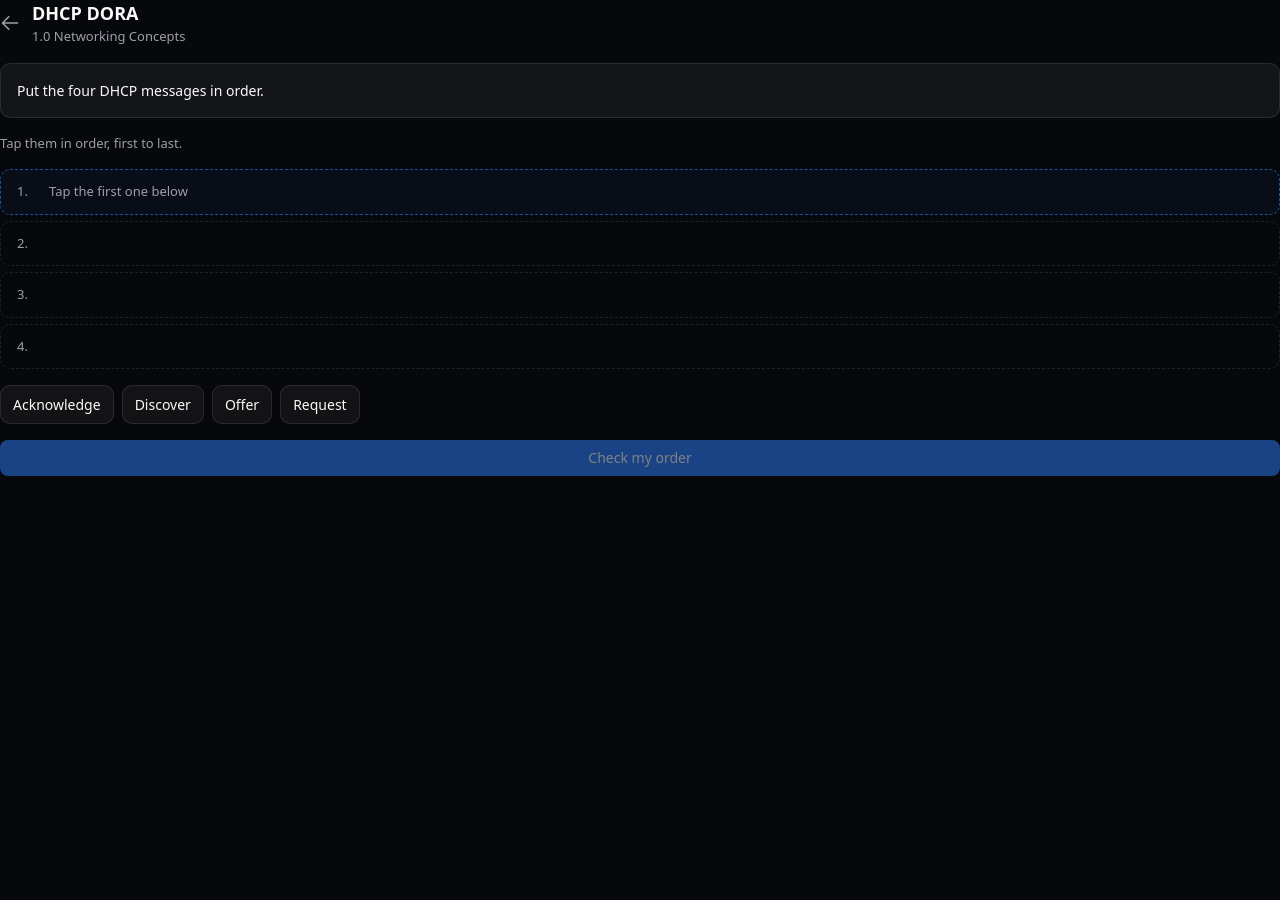
ordering PBQs › asks before leaving once something is placed
This screenshot has width=1280, height=900.
Click the button "Discover" at (163, 404), box [122,385,204,424]
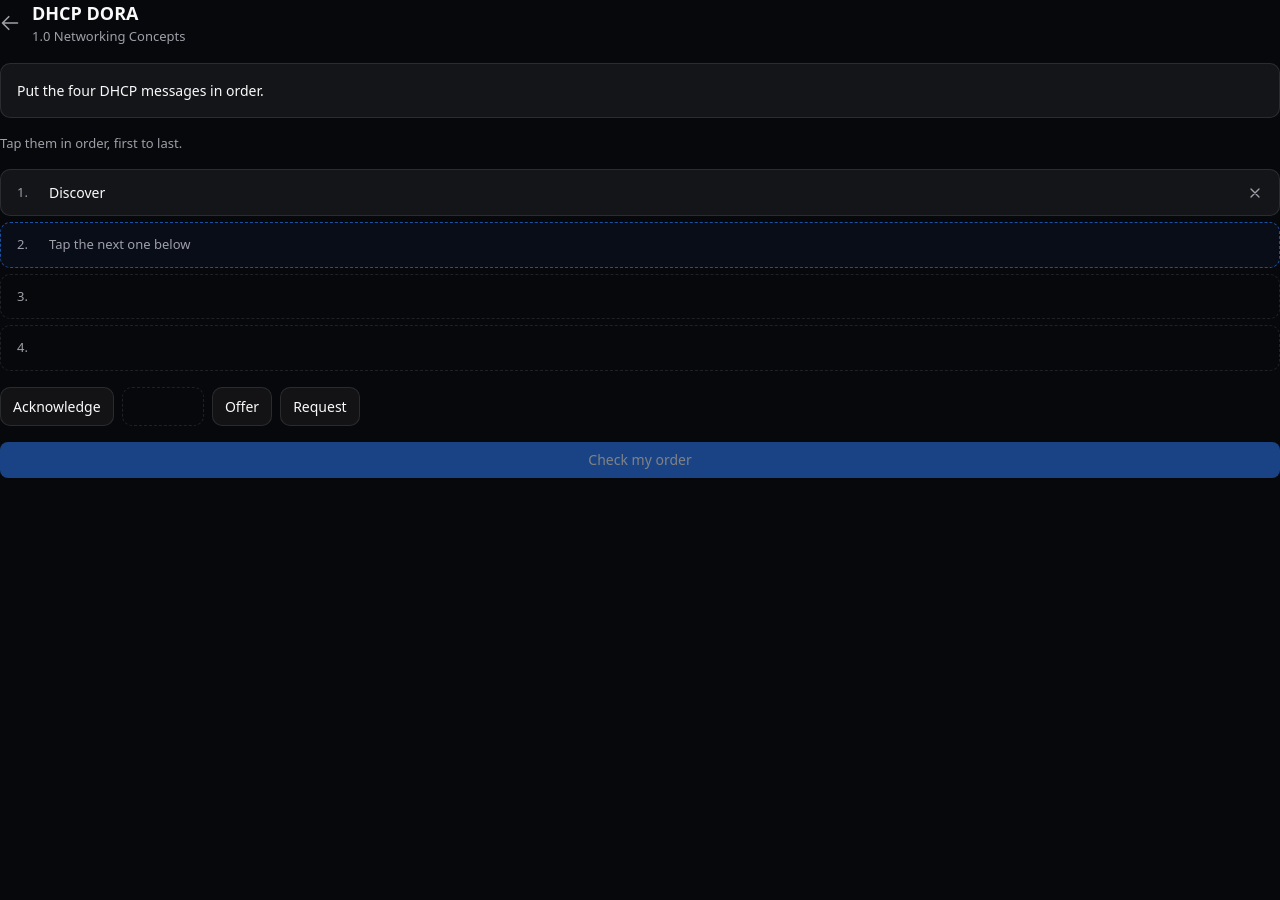
Click the button named "Back to scenarios" at (10, 23), box [0,13,20,33]
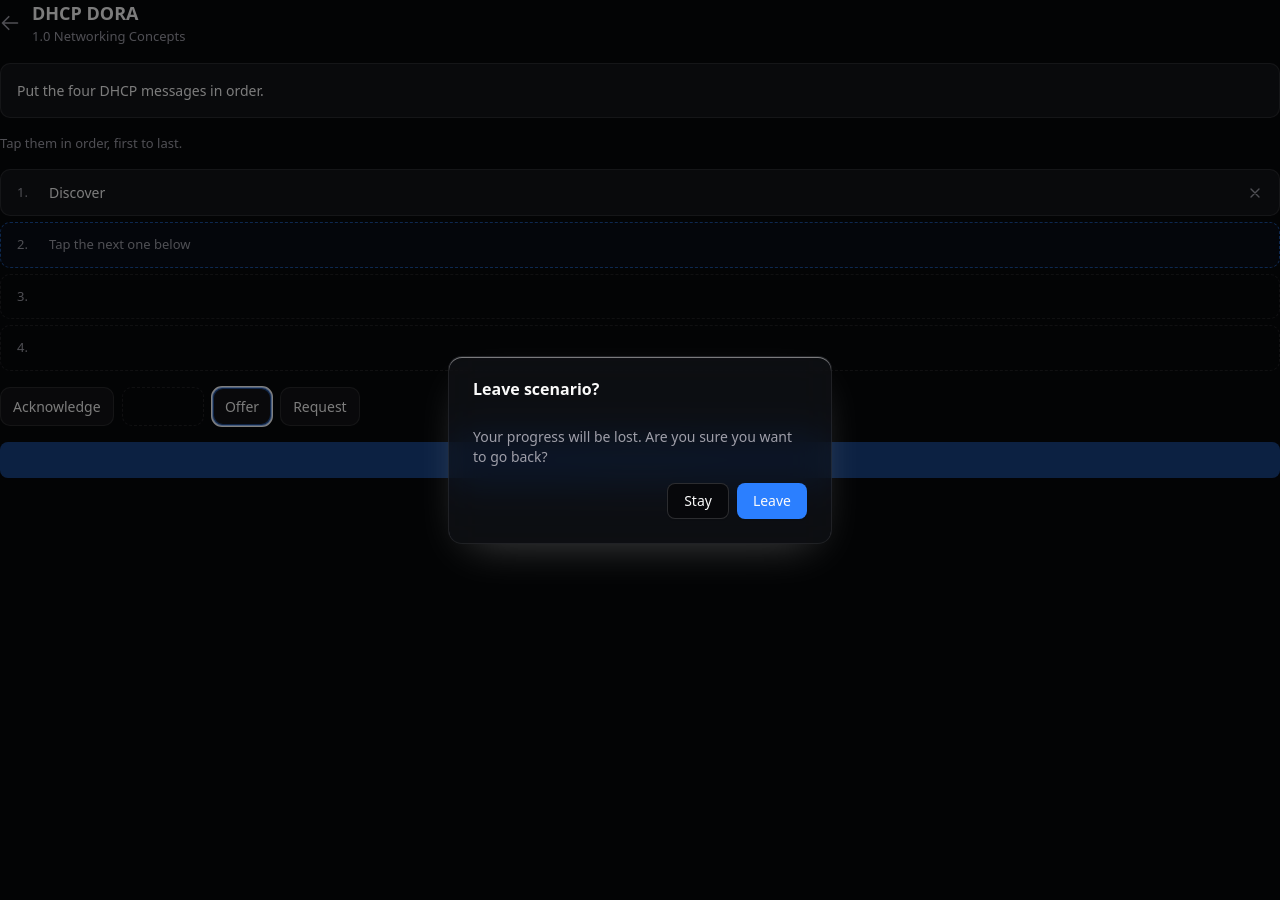
Now the text "Leave scenario?" is shown, box [473,378,599,400]
